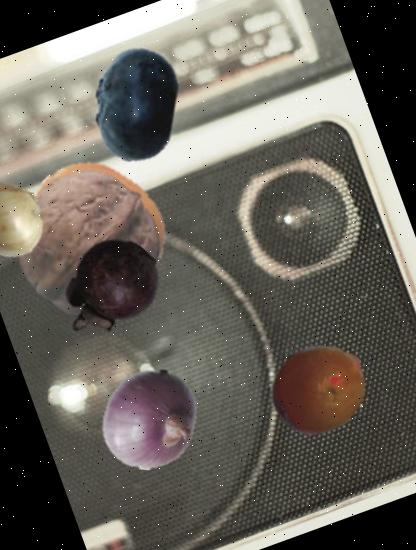Blueberry: (61, 29, 210, 178)
Grapefruit: (4, 136, 189, 321)
Mangostan: (40, 220, 178, 358)
Onion: (84, 353, 215, 484), (0, 168, 60, 271)
Tangelo: (257, 324, 384, 452)
Walnut: (0, 149, 181, 336)
